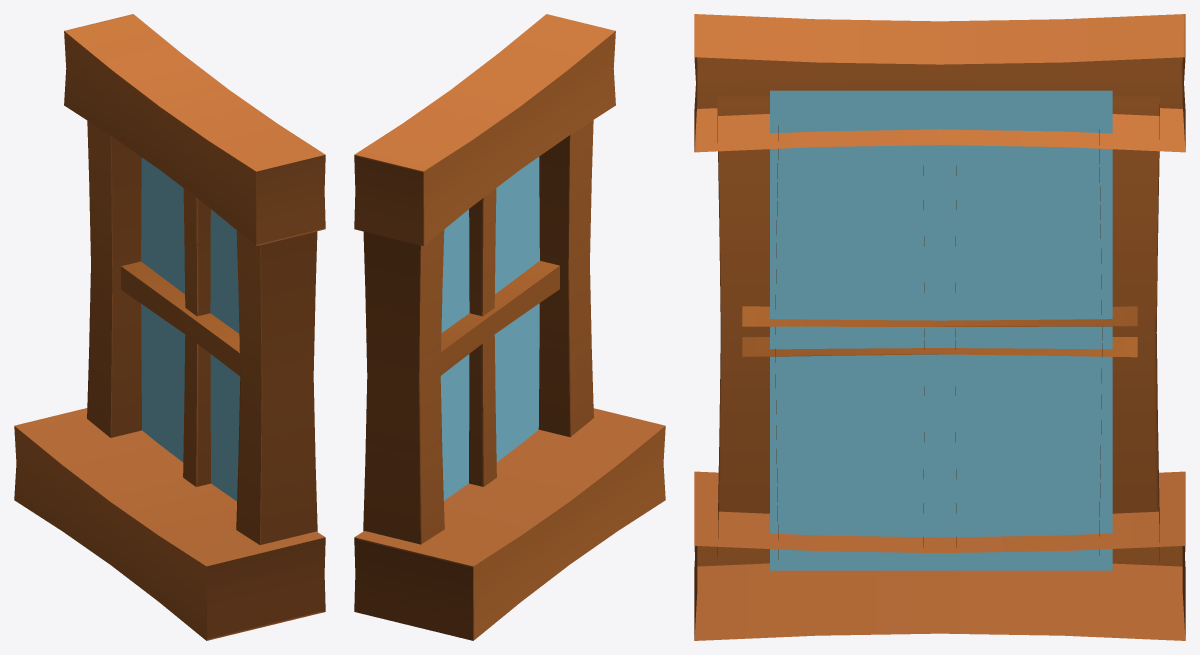
File: MESH_Fenetre_01.fbx
3 renders of one model, left to right at view 1: azimuth 30°, elevation 25°; view 2: azimuth 150°, elevation 25°; view 3: azimuth 270°, elevation 25°, orthographic. The views are drawn at different scales.
Visible parts, largest first — view 1: MESH_Fenetre_01; view 2: MESH_Fenetre_01; view 3: MESH_Fenetre_01.
Boxes of the visible parts, box(x1,y1,x2,y2) form: MESH_Fenetre_01: box(14, 14, 325, 640); MESH_Fenetre_01: box(354, 14, 665, 640); MESH_Fenetre_01: box(694, 14, 1185, 640).
Bounding box in the file's own units: 0.4102 × 1.48 × 1.13.
